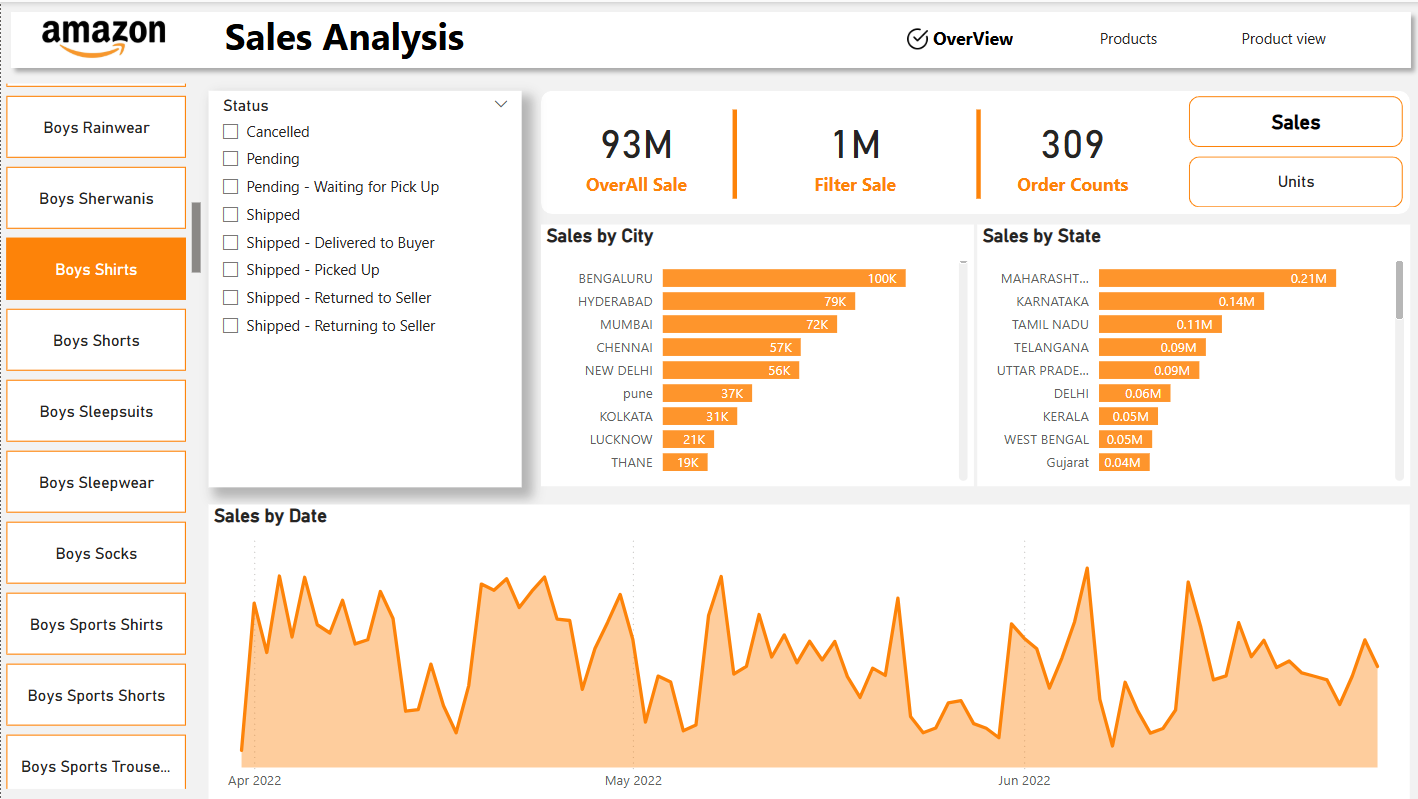

The dashboard page shown, as its layout file describes it:
{"tool":"powerbi","page":{"name":"OverView","canvas":[1280,720],"ordinal":0},"visuals":[{"type":"advancedSlicerVisual","fields":{"Values":["amazon-fashion - YT.Category"]},"box":[0,68.5,185.9,651.8],"z":0},{"type":"shape","box":[0,0,1280.3,68.5],"z":1000},{"type":"image","box":[8.6,4.9,167.5,58.7],"z":2000},{"type":"pageNavigator","box":[812,15.9,412.1,33],"z":3000},{"type":"image","box":[798.5,17.1,56.3,33],"z":4000},{"type":"shape","box":[486.8,80.2,783.6,111.1],"z":5000},{"type":"slicer","fields":{"Values":["Amazon.Status"]},"box":[187.1,80.2,282.8,357.4],"z":6000},{"type":"advancedSlicerVisual","fields":{"Values":["Sale Option.Name"]},"box":[1066.4,80.5,203.3,111.2],"z":7000},{"type":"clusteredBarChart","title":"Sales by State","fields":{"Category":["Amazon.ship-state"],"Y":["Amazon.Filter_Sale"]},"box":[880.7,201.2,390,236.4],"z":8000},{"type":"clusteredBarChart","title":"Sales by City","fields":{"Category":["Amazon.ship-city"],"Y":["Amazon.Filter_Sale"]},"box":[486.8,201.2,390,236.4],"z":9000},{"type":"areaChart","title":"Sales by Date","fields":{"Y":["Amazon.Filter_Sale"],"Category":["Amazon.Date"]},"box":[187.1,453,1083.3,267.3],"z":10000},{"type":"card","title":"Overall Sale","fields":{"Values":["Amazon.All_overall_sale"]},"box":[487.1,80.5,172.6,111.2],"z":11000},{"type":"card","title":"Overall Sale","fields":{"Values":["Amazon.Filter_Sale"]},"box":[683.9,80.5,172.6,111.2],"z":12000},{"type":"card","title":"Overall Sale","fields":{"Values":["Amazon.Order Counts"]},"box":[880.6,80.5,172.6,111.2],"z":13000},{"type":"shape","box":[512,96.5,299.9,80.5],"z":14000},{"type":"shape","box":[731.4,96.5,299.9,80.5],"z":15000},{"type":"shape","box":[201.8,3.7,481.8,58.7],"z":16000}]}

Visuals, with their boxes in screenshot pixels (x1, y1, x2, y2), scaled from the page's 1280x720 canvas onto the 1418x799 screenshot:
advancedSlicerVisual - amazon-fashion - YT.Category: 0,76,206,798
shape: 0,0,1417,76
image: 10,5,195,71
pageNavigator: 900,18,1356,54
image: 885,19,947,56
shape: 539,89,1407,212
slicer - Amazon.Status: 207,89,521,486
advancedSlicerVisual - Sale Option.Name: 1181,89,1407,213
"Sales by State" clusteredBarChart: 976,223,1408,486
"Sales by City" clusteredBarChart: 539,223,971,486
"Sales by Date" areaChart: 207,503,1407,798
"Overall Sale" card: 540,89,731,213
"Overall Sale" card: 758,89,949,213
"Overall Sale" card: 976,89,1167,213
shape: 567,107,899,196
shape: 810,107,1142,196
shape: 224,4,757,69
